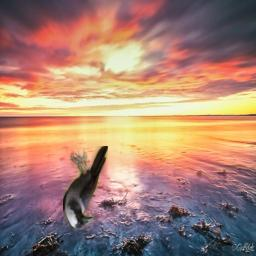Crow: (63, 146, 108, 229)
